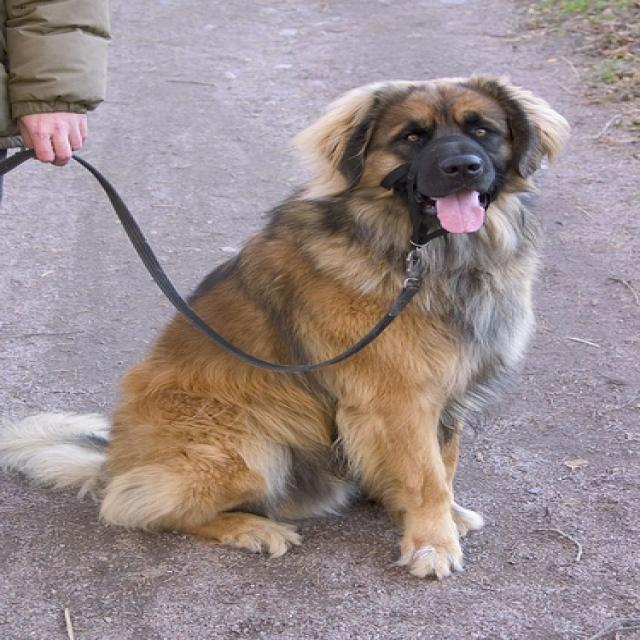dog-leonberger: (2, 63, 591, 590)
